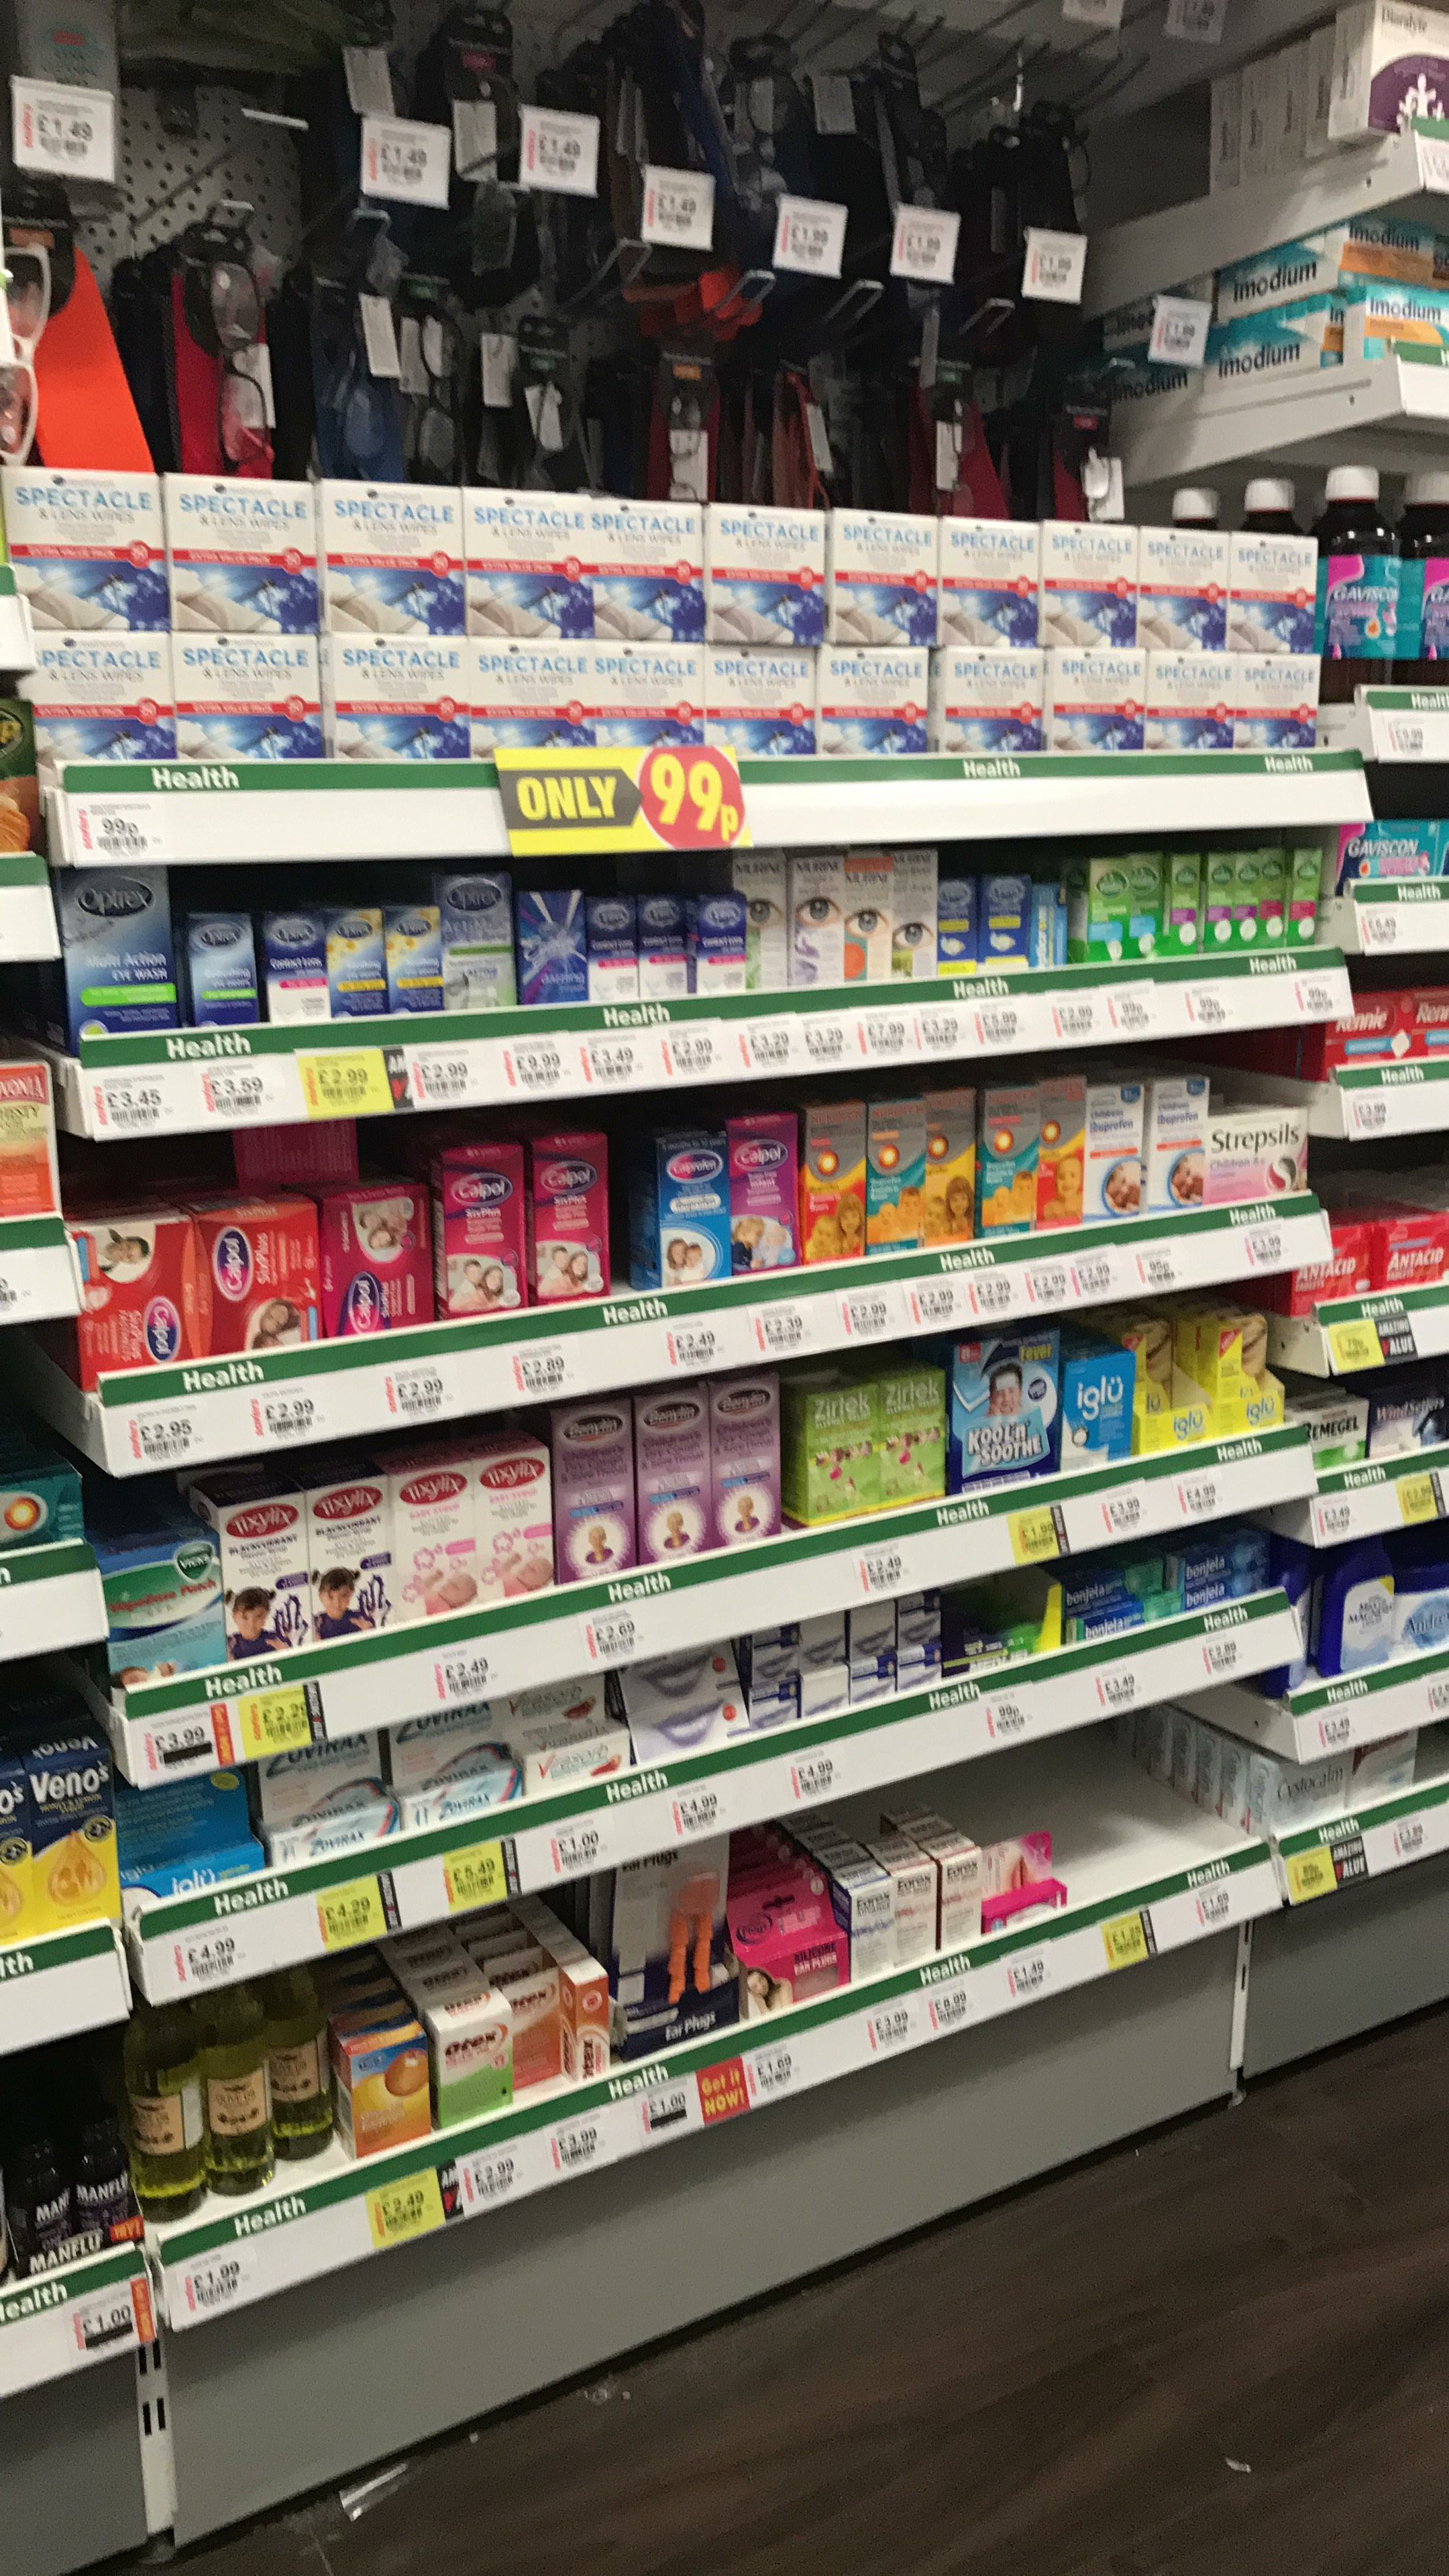product: (150, 219, 287, 471), (593, 16, 724, 248), (0, 179, 97, 464), (4, 467, 165, 625), (430, 12, 534, 248), (308, 25, 416, 239), (844, 44, 950, 260), (317, 479, 467, 632), (170, 474, 313, 628), (170, 640, 320, 778), (612, 1858, 729, 2031), (53, 863, 177, 1026), (313, 239, 405, 455), (28, 640, 170, 778), (324, 637, 467, 771), (722, 41, 814, 248), (465, 488, 589, 633), (1322, 467, 1399, 694), (198, 1208, 318, 1353), (69, 1224, 191, 1364), (131, 2008, 212, 2217), (1019, 101, 1097, 317), (593, 492, 704, 640), (25, 1736, 111, 1927), (706, 506, 826, 640), (467, 639, 589, 768), (823, 511, 938, 646), (322, 1203, 435, 1338), (97, 1546, 223, 1667), (1336, 4, 1449, 134), (120, 1789, 262, 1891), (706, 646, 823, 768), (437, 1148, 527, 1306), (527, 1132, 609, 1306), (593, 640, 708, 763), (389, 1451, 469, 1626), (550, 1403, 633, 1569), (495, 317, 584, 472), (637, 1382, 709, 1569), (938, 517, 1042, 646), (954, 1339, 1058, 1468), (916, 361, 1007, 510), (271, 1967, 334, 2173), (9, 12, 101, 154), (211, 1976, 269, 2197), (1042, 518, 1138, 653), (304, 1481, 389, 1631), (405, 292, 472, 472), (828, 651, 936, 763), (223, 1495, 304, 1642), (640, 336, 720, 485), (932, 649, 1046, 754), (264, 1752, 386, 1847), (471, 1442, 547, 1594), (649, 1136, 729, 1281), (1399, 465, 1449, 690), (731, 1111, 796, 1281), (731, 1890, 840, 1990), (709, 1384, 780, 1539), (1226, 527, 1316, 649), (1139, 529, 1228, 653), (389, 1716, 510, 1805), (763, 357, 835, 502), (791, 1384, 872, 1513), (1047, 655, 1146, 759), (1046, 389, 1125, 518), (1205, 1099, 1309, 1196), (803, 1095, 863, 1261), (511, 1690, 628, 1775), (336, 2028, 423, 2141), (977, 1083, 1040, 1237), (1318, 1541, 1398, 1663), (874, 1366, 943, 1504), (1139, 1067, 1205, 1212), (1346, 280, 1449, 368), (426, 2003, 508, 2114), (869, 1093, 924, 1256), (633, 1658, 743, 1739), (65, 2105, 129, 2245), (442, 874, 506, 1010), (511, 888, 586, 1003), (1086, 1070, 1139, 1228), (1150, 655, 1237, 750), (1237, 653, 1322, 750), (182, 913, 255, 1026), (1196, 1322, 1272, 1430), (223, 1127, 356, 1185), (925, 1092, 975, 1244), (791, 847, 844, 989), (1325, 828, 1445, 890), (1315, 998, 1410, 1076), (260, 904, 324, 1017), (1039, 1076, 1085, 1226), (1063, 1357, 1125, 1468), (741, 847, 789, 989), (1290, 1221, 1369, 1306), (12, 2130, 64, 2261), (1253, 1748, 1345, 1817), (1322, 223, 1433, 280), (1127, 1325, 1178, 1445), (329, 906, 382, 1019), (1371, 1205, 1445, 1284), (987, 1842, 1062, 1921), (506, 1980, 564, 2081), (386, 904, 441, 1010), (633, 892, 688, 996), (844, 847, 886, 982), (888, 853, 931, 982), (690, 892, 741, 998), (1362, 1391, 1445, 1456), (1274, 1566, 1316, 1691), (1076, 856, 1125, 962), (1290, 1399, 1364, 1470), (844, 1870, 892, 1980), (564, 1964, 610, 2077), (1345, 1727, 1415, 1798), (977, 872, 1026, 970), (939, 1626, 1051, 1668), (892, 1858, 938, 1959), (938, 1845, 984, 1944), (1399, 1569, 1449, 1661), (587, 893, 630, 998), (1123, 849, 1162, 961), (1069, 1601, 1184, 1638), (932, 879, 977, 975), (1196, 851, 1235, 957), (1026, 879, 1070, 970), (1051, 1566, 1164, 1598), (1177, 1541, 1269, 1578), (1407, 991, 1445, 1076), (1292, 847, 1323, 945), (1164, 856, 1194, 957), (1185, 1578, 1267, 1614), (1261, 849, 1288, 954), (1237, 851, 1261, 954), (743, 1631, 794, 1677), (847, 1603, 895, 1651), (847, 1654, 892, 1697), (800, 1615, 842, 1660), (750, 1684, 800, 1721), (892, 1647, 939, 1684), (897, 1596, 938, 1638), (800, 1667, 844, 1704), (662, 803, 676, 823)
